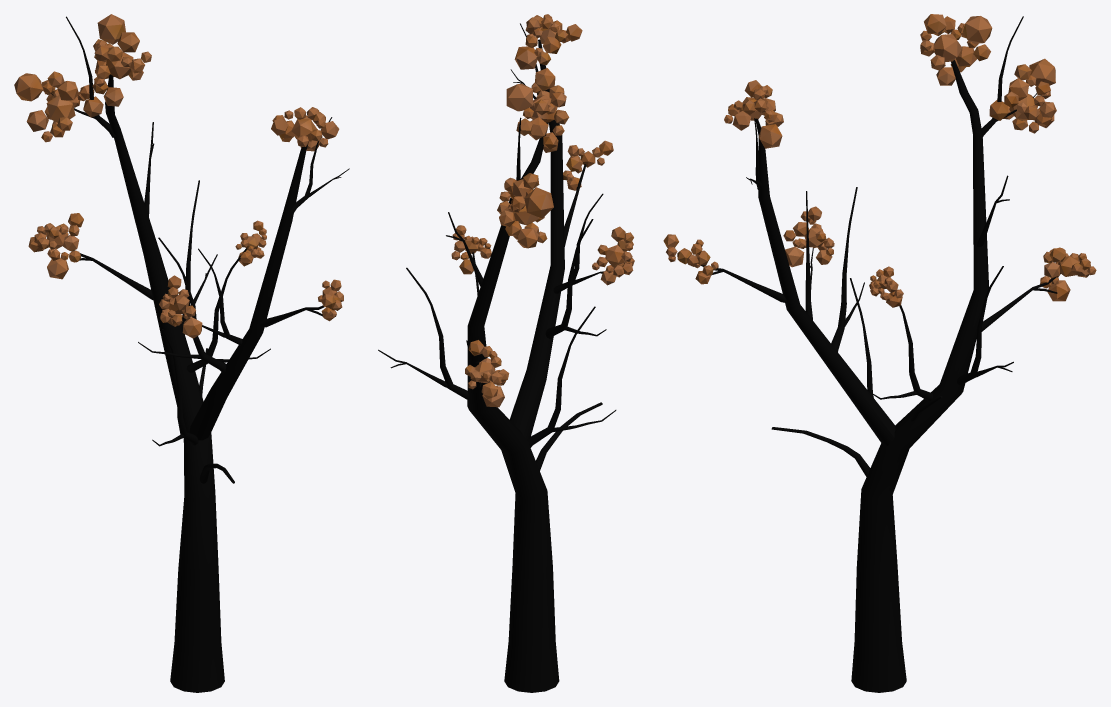
The model's file is underworld tree var 2.fbx.
3 views of the same model, side by side, from view 1: azimuth 30°, elevation 25°; view 2: azimuth 150°, elevation 25°; view 3: azimuth 270°, elevation 25° (orthographic).
Parts seen in each view (by area): view 1: underworld tree var 2; view 2: underworld tree var 2; view 3: underworld tree var 2.
Boxes of the visible parts, x1,y1,x2,y2 form: underworld tree var 2: [14, 14, 349, 692]; underworld tree var 2: [378, 14, 634, 692]; underworld tree var 2: [663, 14, 1096, 692].
Bounding box in the file's own units: 499 × 1620 × 982.
